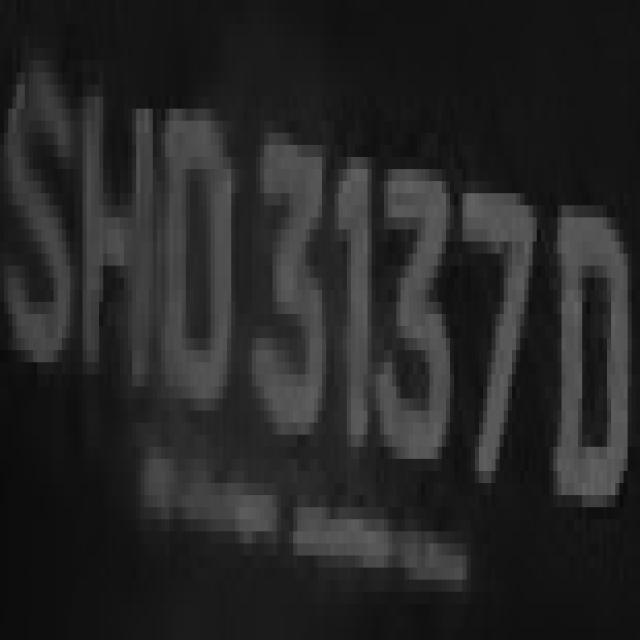1: (322, 85, 388, 519)
3: (380, 109, 454, 543), (248, 121, 330, 471)
7: (454, 145, 533, 507)
D: (549, 145, 632, 555), (157, 48, 239, 459)
H: (74, 24, 153, 471)
S: (8, 0, 78, 459)
